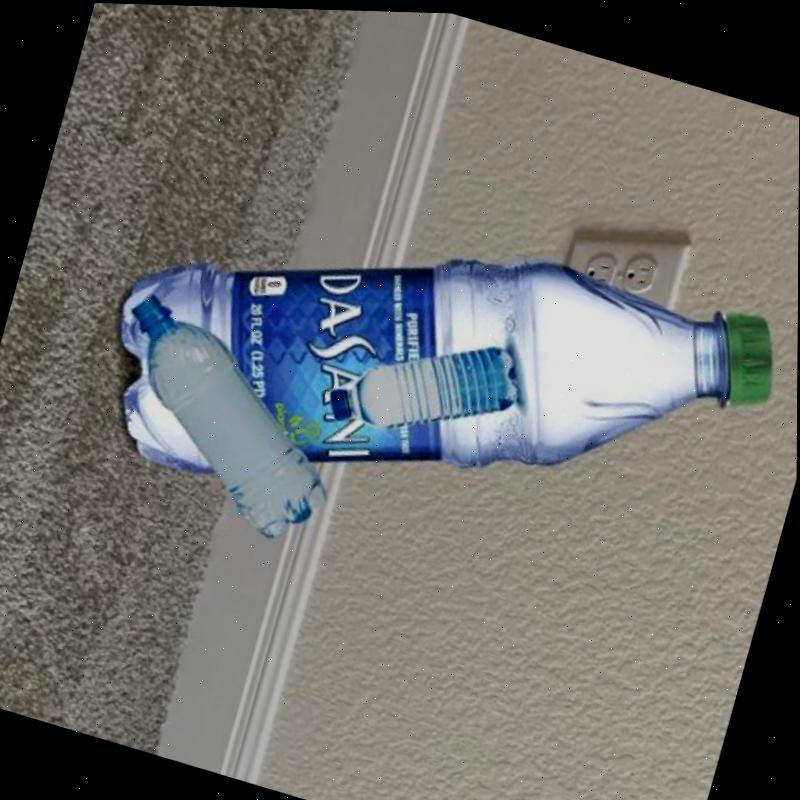botella: (81, 136, 794, 628), (80, 284, 366, 551)
